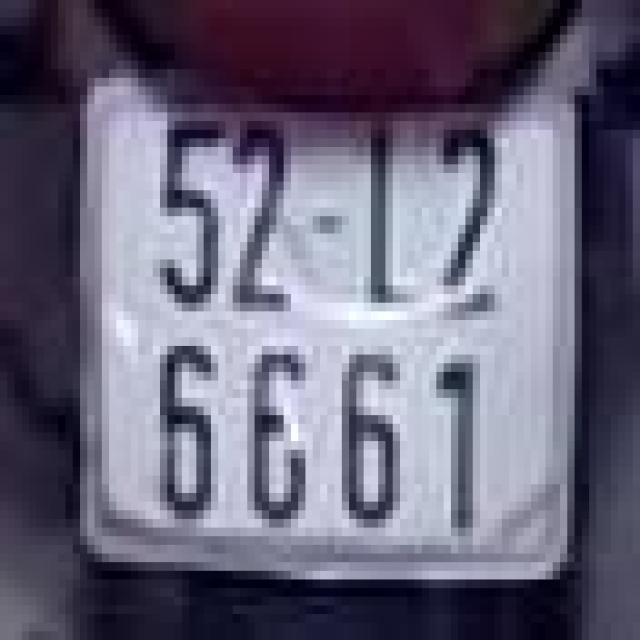1: (433, 342, 498, 549)
2: (429, 121, 524, 320), (229, 108, 302, 316)
5: (142, 108, 229, 316)
6: (142, 328, 222, 528), (331, 337, 411, 528), (236, 342, 309, 532)
L: (349, 121, 429, 311)
